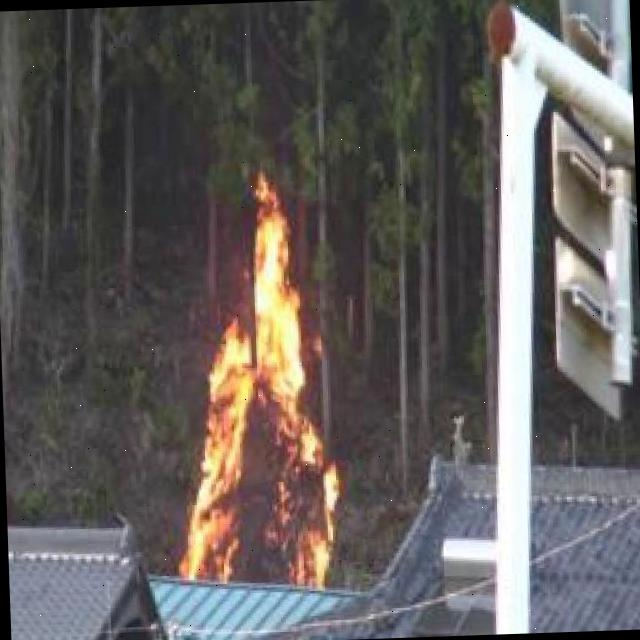fire: (167, 195, 340, 583)
